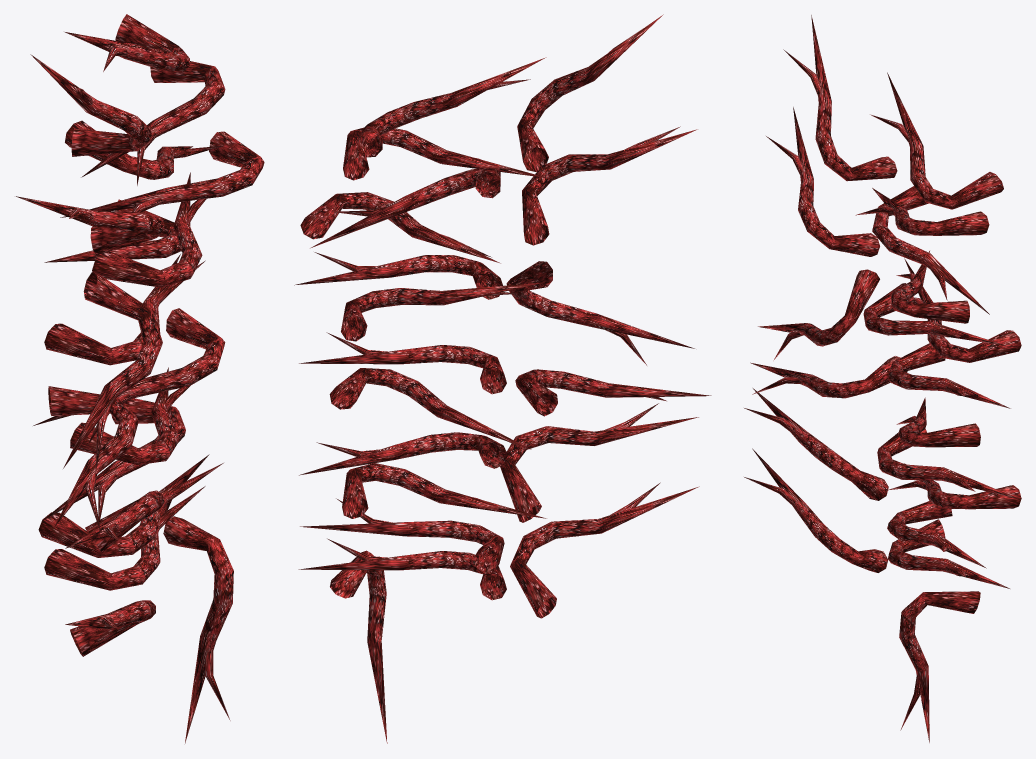
Rendered from tendrils.gltf.
3 views of the same model, side by side, from view 1: azimuth 30°, elevation 25°; view 2: azimuth 150°, elevation 25°; view 3: azimuth 270°, elevation 25° (orthographic). The views are drawn at different scales.
Visible parts, largest first — view 1: NurbsPath64, NurbsPath59, NurbsPath71, NurbsPath61, NurbsPath60, NurbsPath66, NurbsPath73, NurbsPath75, NurbsPath77, NurbsPath70, NurbsPath65, NurbsPath68 (+7 smaller); view 2: NurbsPath62, NurbsPath63, NurbsPath65, NurbsPath69, NurbsPath64, NurbsPath66, NurbsPath74, NurbsPath72, NurbsPath75, NurbsPath61, NurbsPath60, NurbsPath67 (+7 smaller); view 3: NurbsPath66, NurbsPath59, NurbsPath68, NurbsPath65, NurbsPath62, NurbsPath63, NurbsPath76, NurbsPath64, NurbsPath74, NurbsPath70, NurbsPath72, NurbsPath61 (+7 smaller).
Boxes of the visible parts, x1,y1,x2,y2 form: NurbsPath64: (63,272,162,474); NurbsPath59: (163,516,233,743); NurbsPath71: (60,131,264,217); NurbsPath61: (48,386,138,531); NurbsPath60: (33,308,225,446); NurbsPath66: (30,54,152,156); NurbsPath73: (92,172,206,287); NurbsPath75: (38,454,223,557); NurbsPath77: (44,486,205,590); NurbsPath70: (81,61,225,185); NurbsPath65: (16,196,164,254); NurbsPath68: (65,14,189,71); NurbsPath62: (510,482,699,618); NurbsPath63: (500,403,698,522); NurbsPath65: (522,126,697,245); NurbsPath69: (342,463,546,518); NurbsPath64: (506,261,694,365); NurbsPath66: (517,14,663,171); NurbsPath74: (299,332,506,394); NurbsPath72: (299,432,507,475); NurbsPath75: (300,498,504,573); NurbsPath61: (515,369,711,416); NurbsPath60: (329,368,531,449); NurbsPath67: (341,282,544,341); NurbsPath66: (783,15,897,181); NurbsPath59: (899,591,980,742); NurbsPath68: (870,72,1003,209); NurbsPath65: (766,107,879,256); NurbsPath62: (744,448,888,572); NurbsPath63: (744,388,888,500); NurbsPath76: (872,186,989,314); NurbsPath64: (758,269,879,360); NurbsPath74: (888,343,1010,408); NurbsPath70: (855,188,989,235); NurbsPath72: (877,428,1019,499); NurbsPath61: (750,356,907,398).
Bounding box in the file's own units: 8.02 × 18.88 × 7.45.
1 material, 1 textured.
